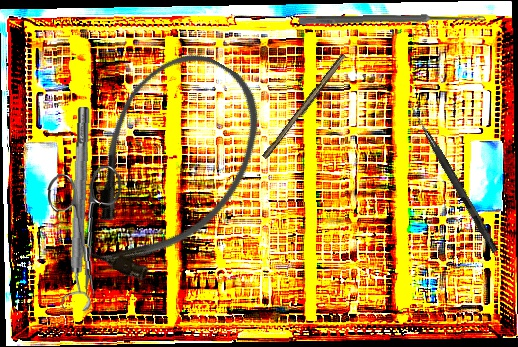Cannula: (49, 31, 288, 303)
Fixation Ring: (58, 106, 102, 312)
Hook Surgical: (404, 101, 501, 254)
Iris Scissors: (46, 165, 129, 299)
Scalpel Handle: (261, 52, 349, 162)
Surgical Spoon: (298, 13, 486, 26)
